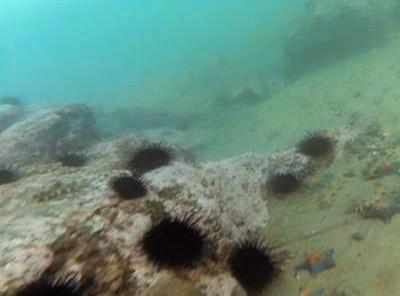urchin: (145, 214, 203, 270), (227, 240, 280, 293), (9, 270, 94, 296), (134, 142, 182, 168), (107, 173, 149, 200), (296, 133, 335, 158), (270, 170, 300, 195), (55, 148, 90, 169), (0, 159, 18, 187)
